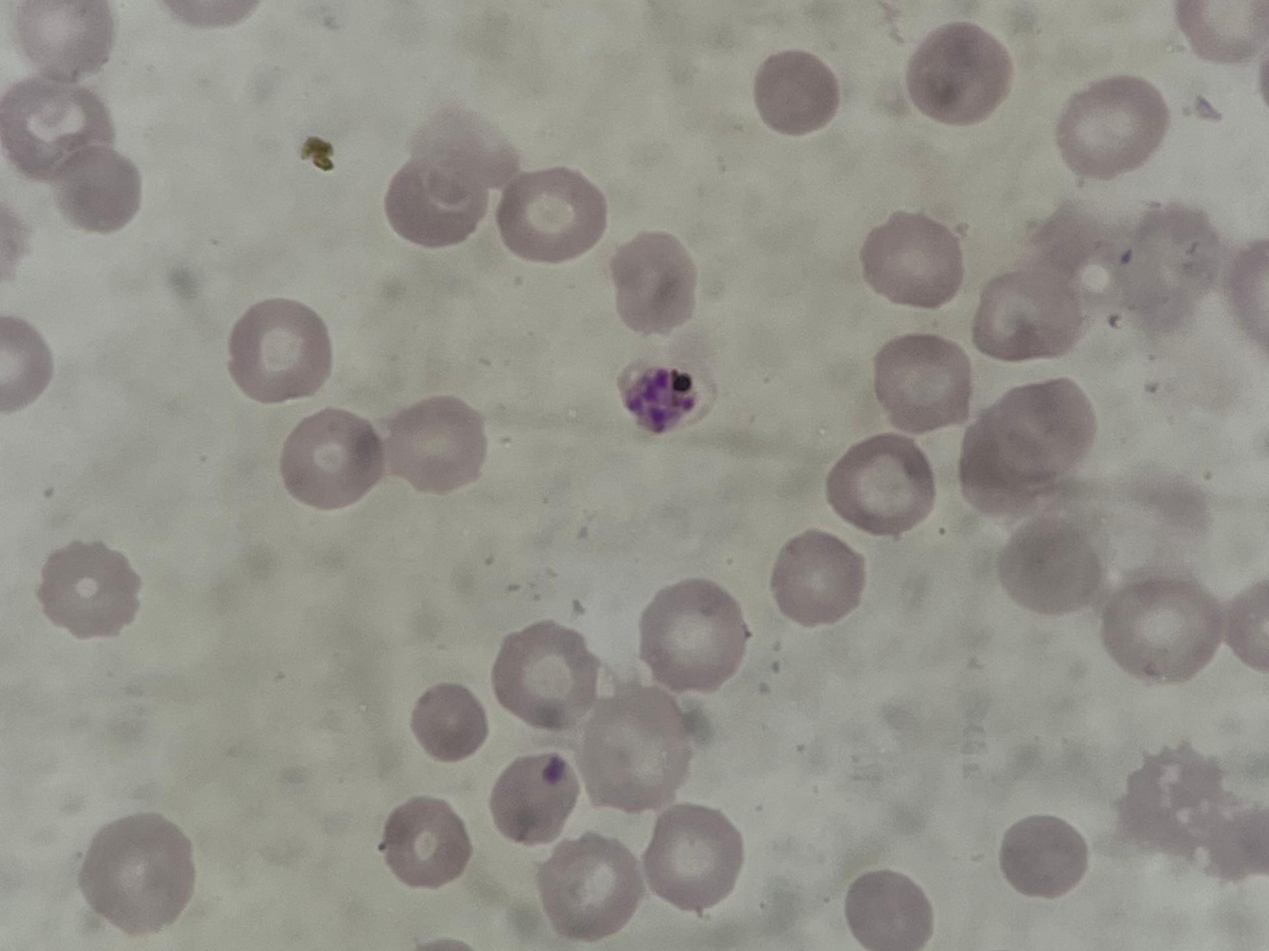Infected: (612, 349, 720, 433)
Uninfected: (577, 686, 695, 812), (82, 814, 198, 938), (637, 578, 749, 696), (1055, 71, 1174, 182), (901, 18, 1015, 129), (1102, 578, 1216, 687), (0, 78, 118, 183), (494, 622, 602, 733), (984, 377, 1096, 483), (225, 296, 328, 409), (820, 437, 939, 534), (533, 833, 637, 943), (958, 415, 1059, 528), (969, 258, 1082, 356), (282, 406, 388, 509), (498, 168, 605, 268), (388, 397, 491, 499), (35, 543, 141, 642), (646, 798, 739, 910), (875, 327, 971, 434), (767, 525, 867, 627), (864, 203, 963, 306), (608, 225, 698, 337), (19, 0, 126, 89), (1000, 525, 1102, 617), (487, 750, 577, 847), (383, 164, 489, 246), (379, 798, 470, 891), (1002, 811, 1093, 902), (756, 47, 843, 140), (57, 146, 142, 236), (842, 869, 936, 948), (410, 679, 483, 765)
